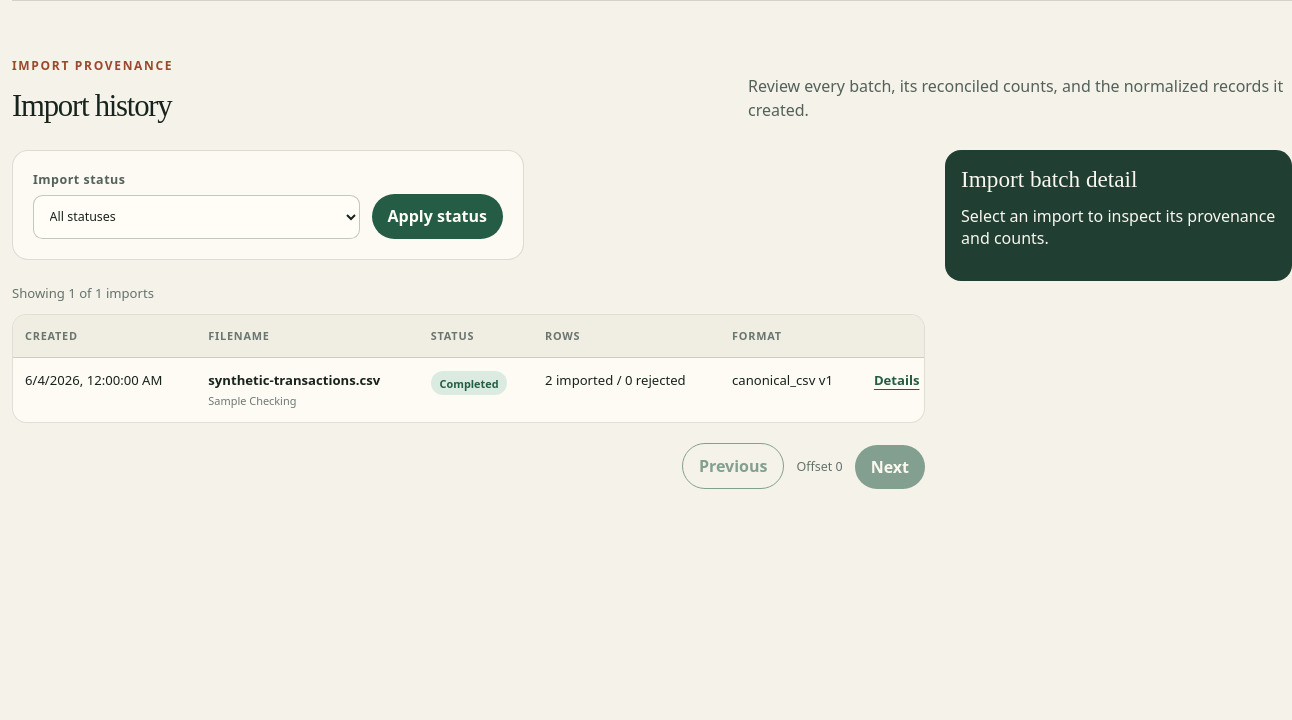
Test: ImportHistoryView › keeps the import when confirmation is cancelled and reports delete failures
The width and height of the screenshot is (1292, 720).
Check: the text "synthetic-transactions.csv" is shown, box 208,372 -> 407,390
What coordinates should you click on to do the following:
click the button "Details"
I would click on:
 (897, 380)
Its box is 874,372 -> 920,390.
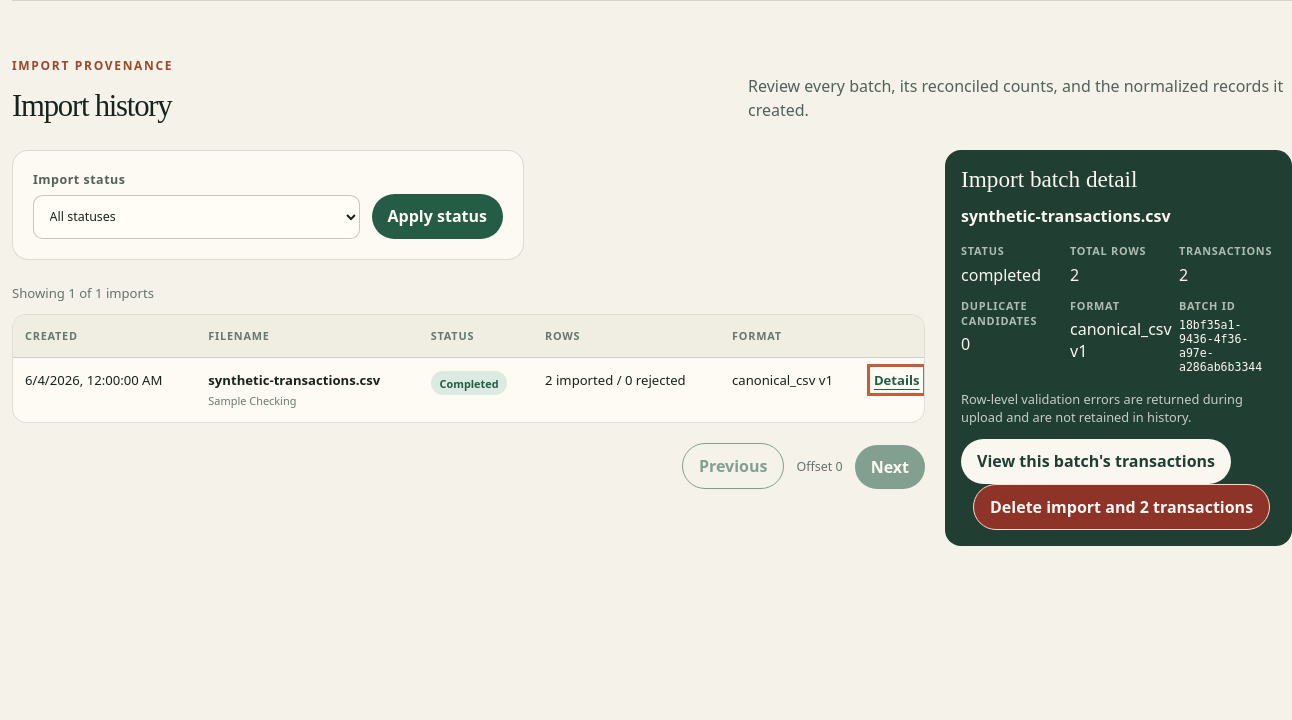
What coordinates should you click on to do the following:
click the button "Delete import and 2 transactions"
I would click on:
 (1122, 507)
Its box is 973,484 -> 1270,530.
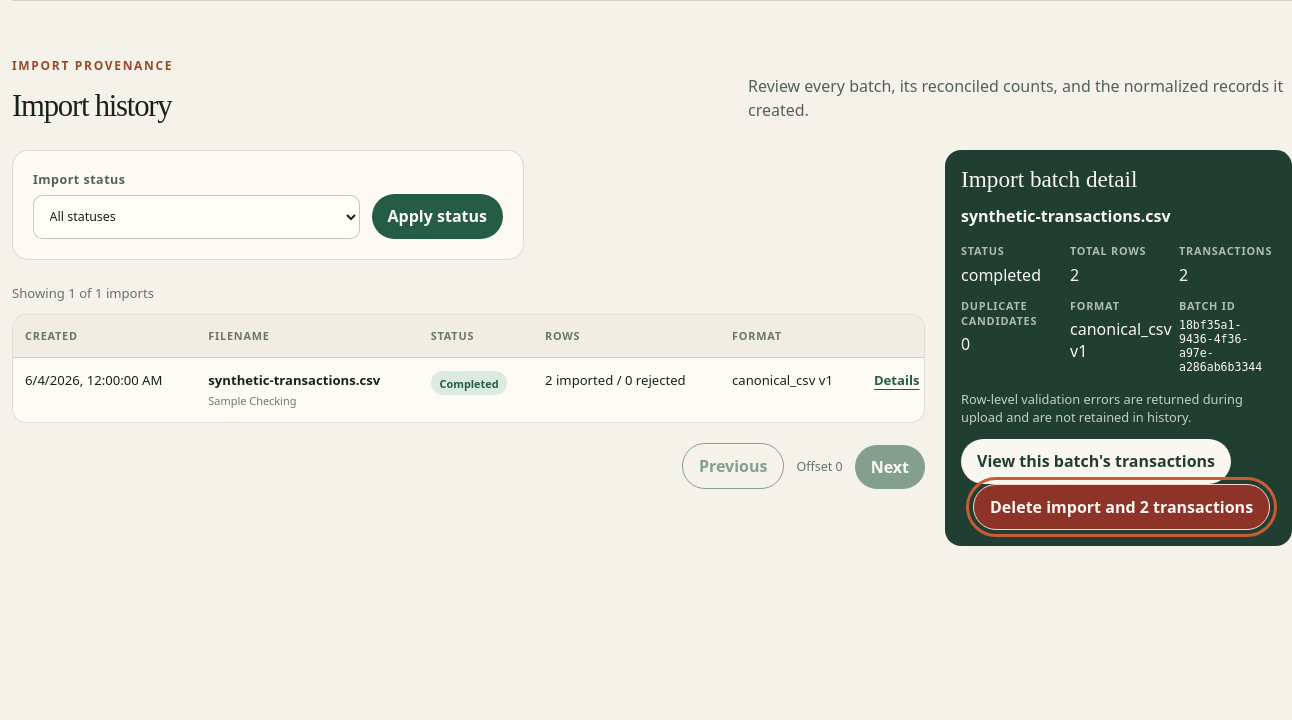
What coordinates should you click on to do the following:
click the button "Delete import and 2 transactions"
I would click on:
 (1122, 507)
Its box is 973,484 -> 1270,530.
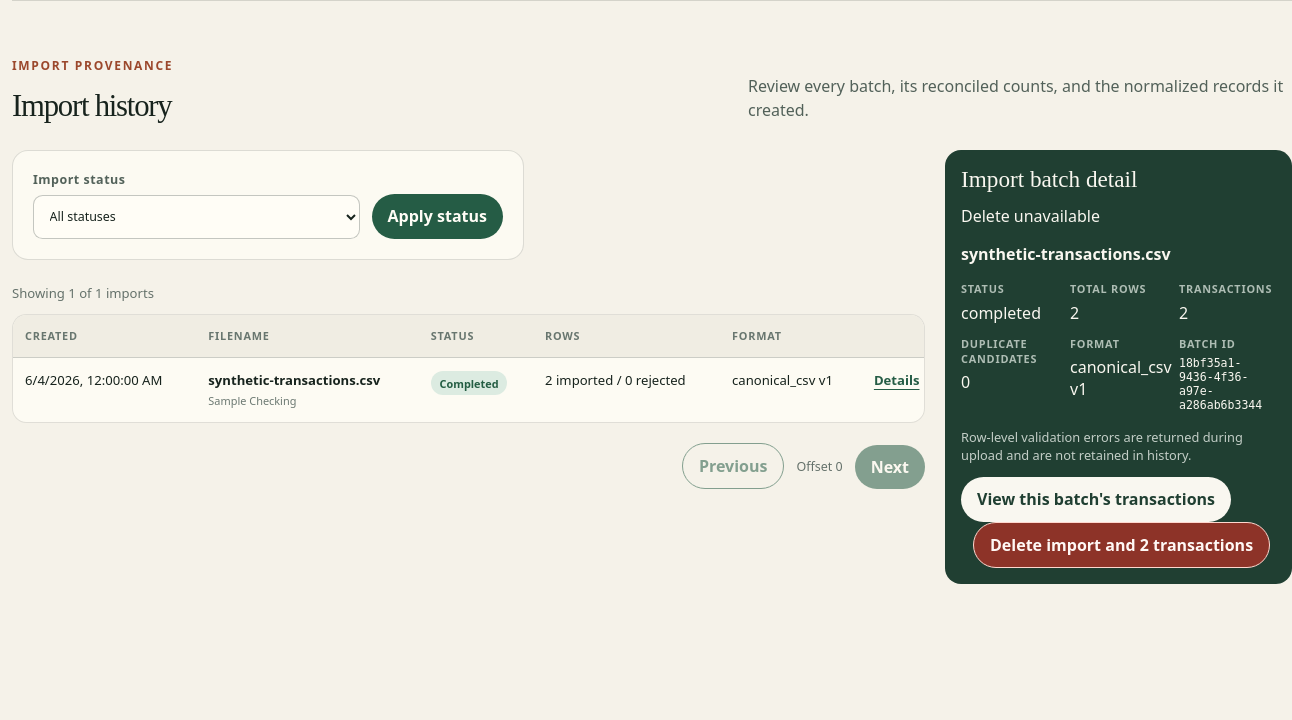
Check: the text "synthetic-transactions.csv" next to "6/4/2026, 12:00:00 AM" is shown, box 208,372 -> 380,390
Check: the message reads "Delete unavailable", box 961,205 -> 1100,227
